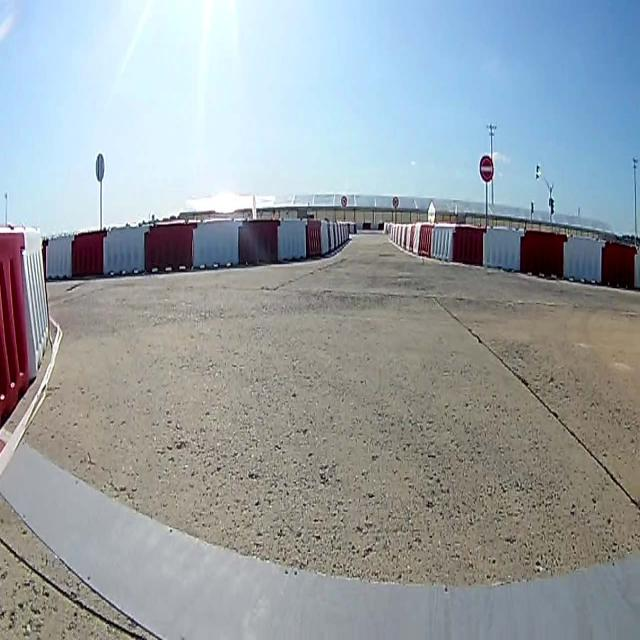girisyok: (478, 154, 496, 184)
